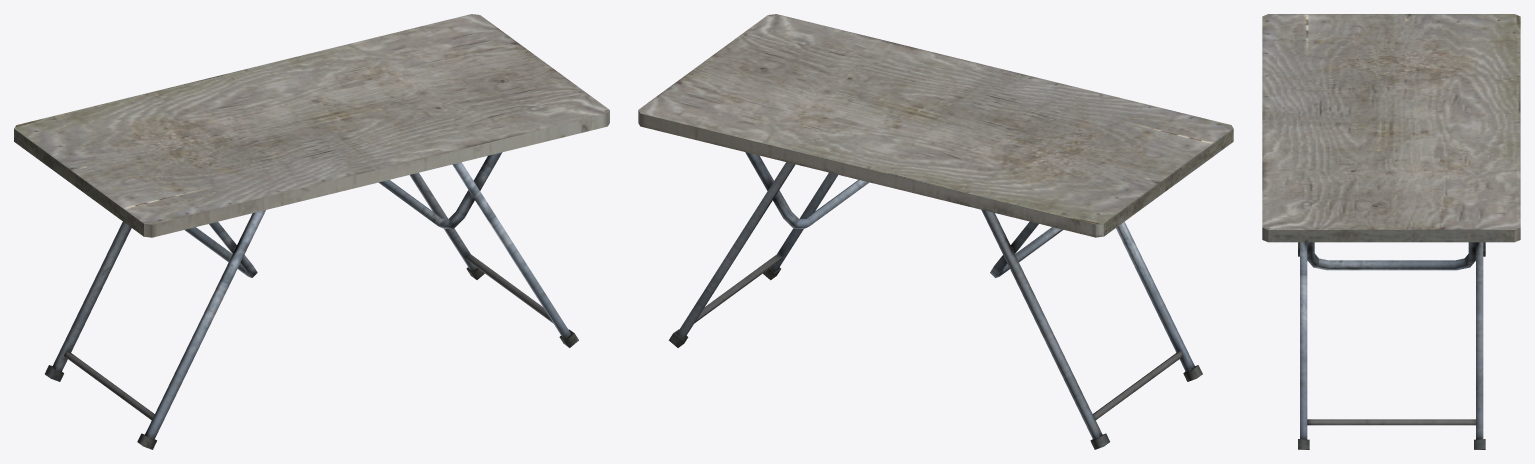
File: ComputerTable.FBX
The picture shows the model from 3 angles, left to right: view 1: azimuth 30°, elevation 25°; view 2: azimuth 150°, elevation 25°; view 3: azimuth 270°, elevation 25°; orthographic projection. The views are drawn at different scales.
Parts seen in each view (by area): view 1: ComputerTable; view 2: ComputerTable; view 3: ComputerTable.
Boxes of the visible parts, bbox=[...] form: ComputerTable: bbox=[14, 14, 609, 449]; ComputerTable: bbox=[638, 14, 1233, 449]; ComputerTable: bbox=[1262, 14, 1520, 449].
Size of the model in its own units: 174 by 87.02 by 88.05.
